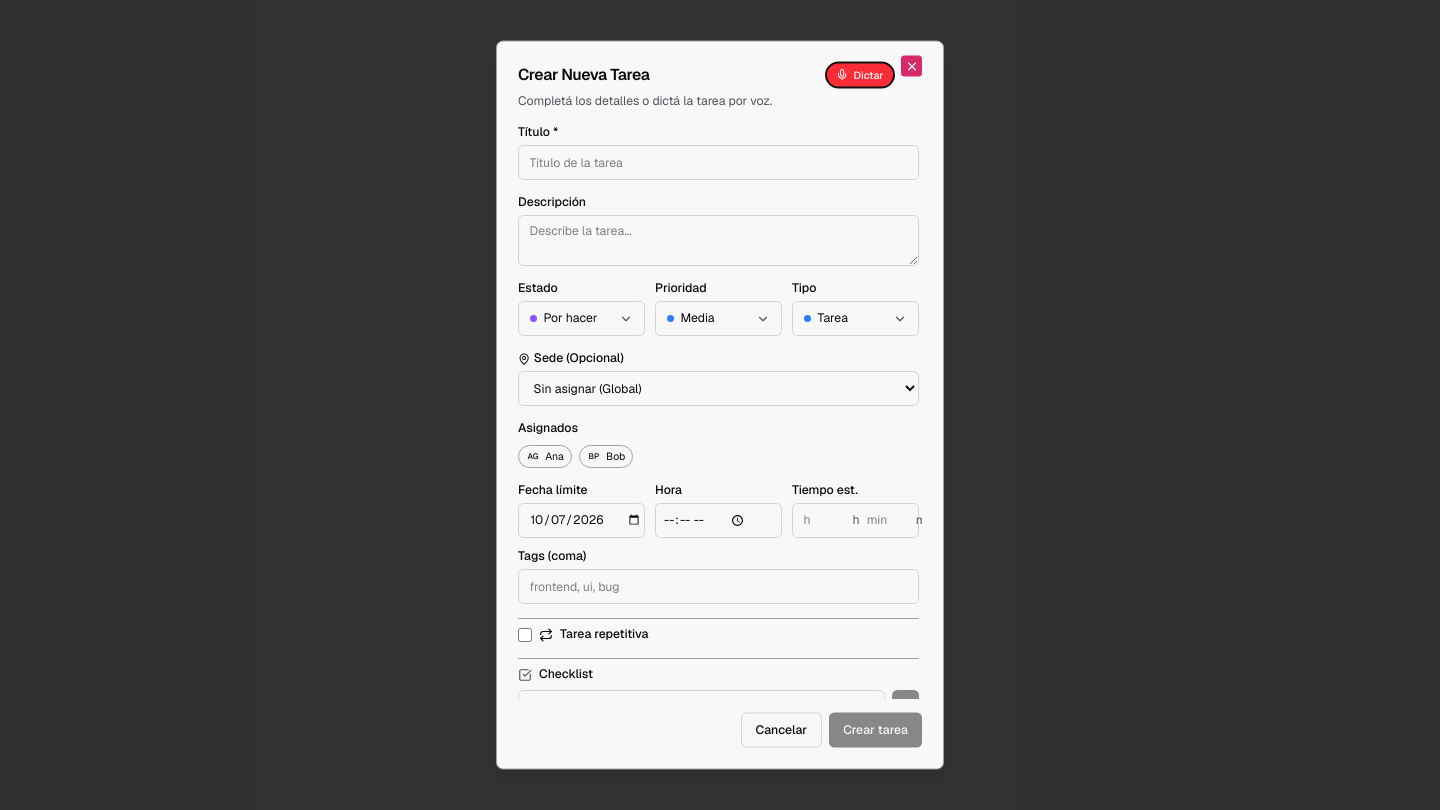
Test: CreateTaskModal › submit habilitado cuando hay título
This screenshot has width=1440, height=810.
Step 1. Type "Mi tarea" into the field with placeholder "Título de la tarea" → {"x": 718, "y": 162}, box [518,145,918,180]
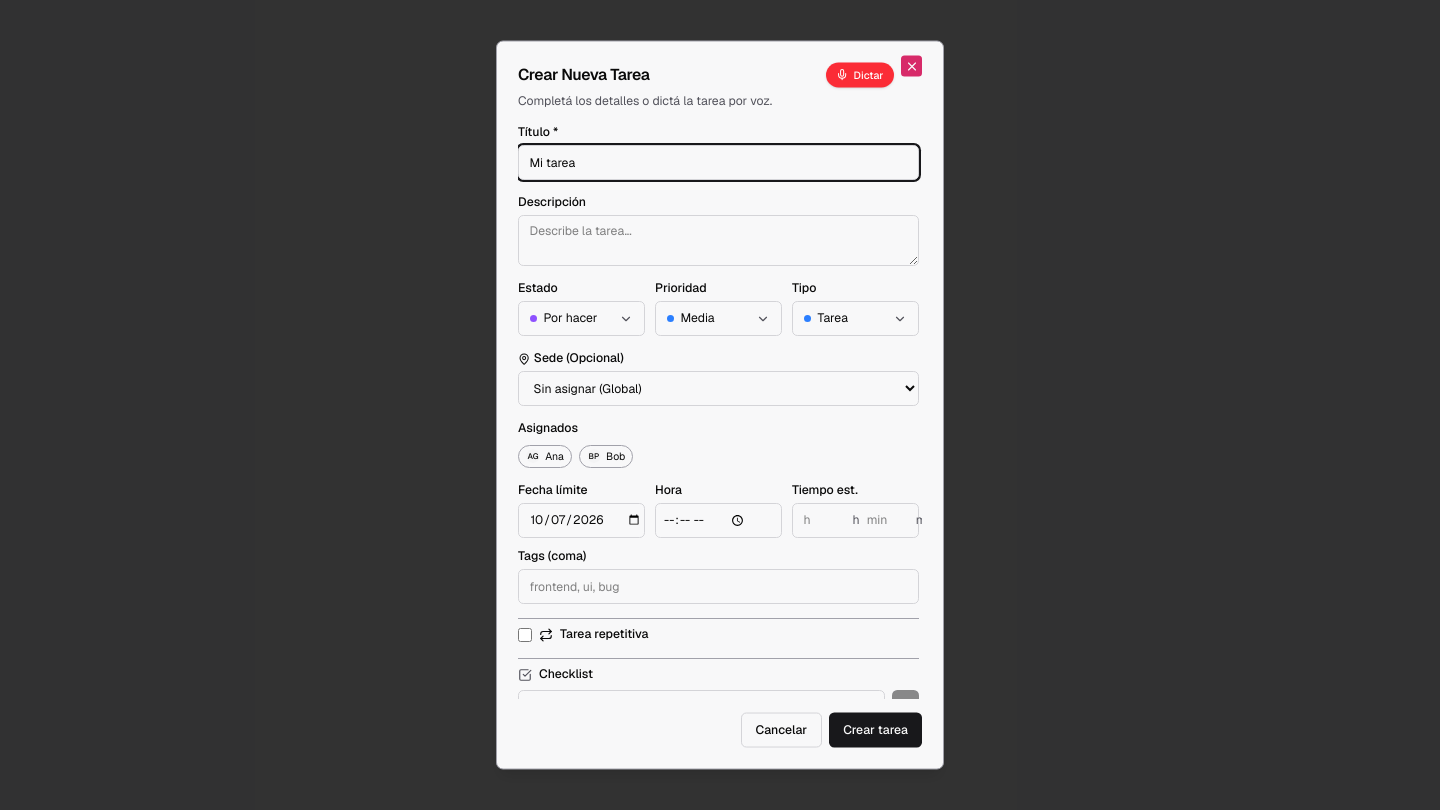
Now the button "Crear tarea" is enabled, box [829,712,922,748]
